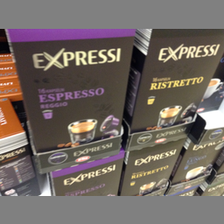coffee: (4, 29, 136, 152), (129, 29, 224, 133)
